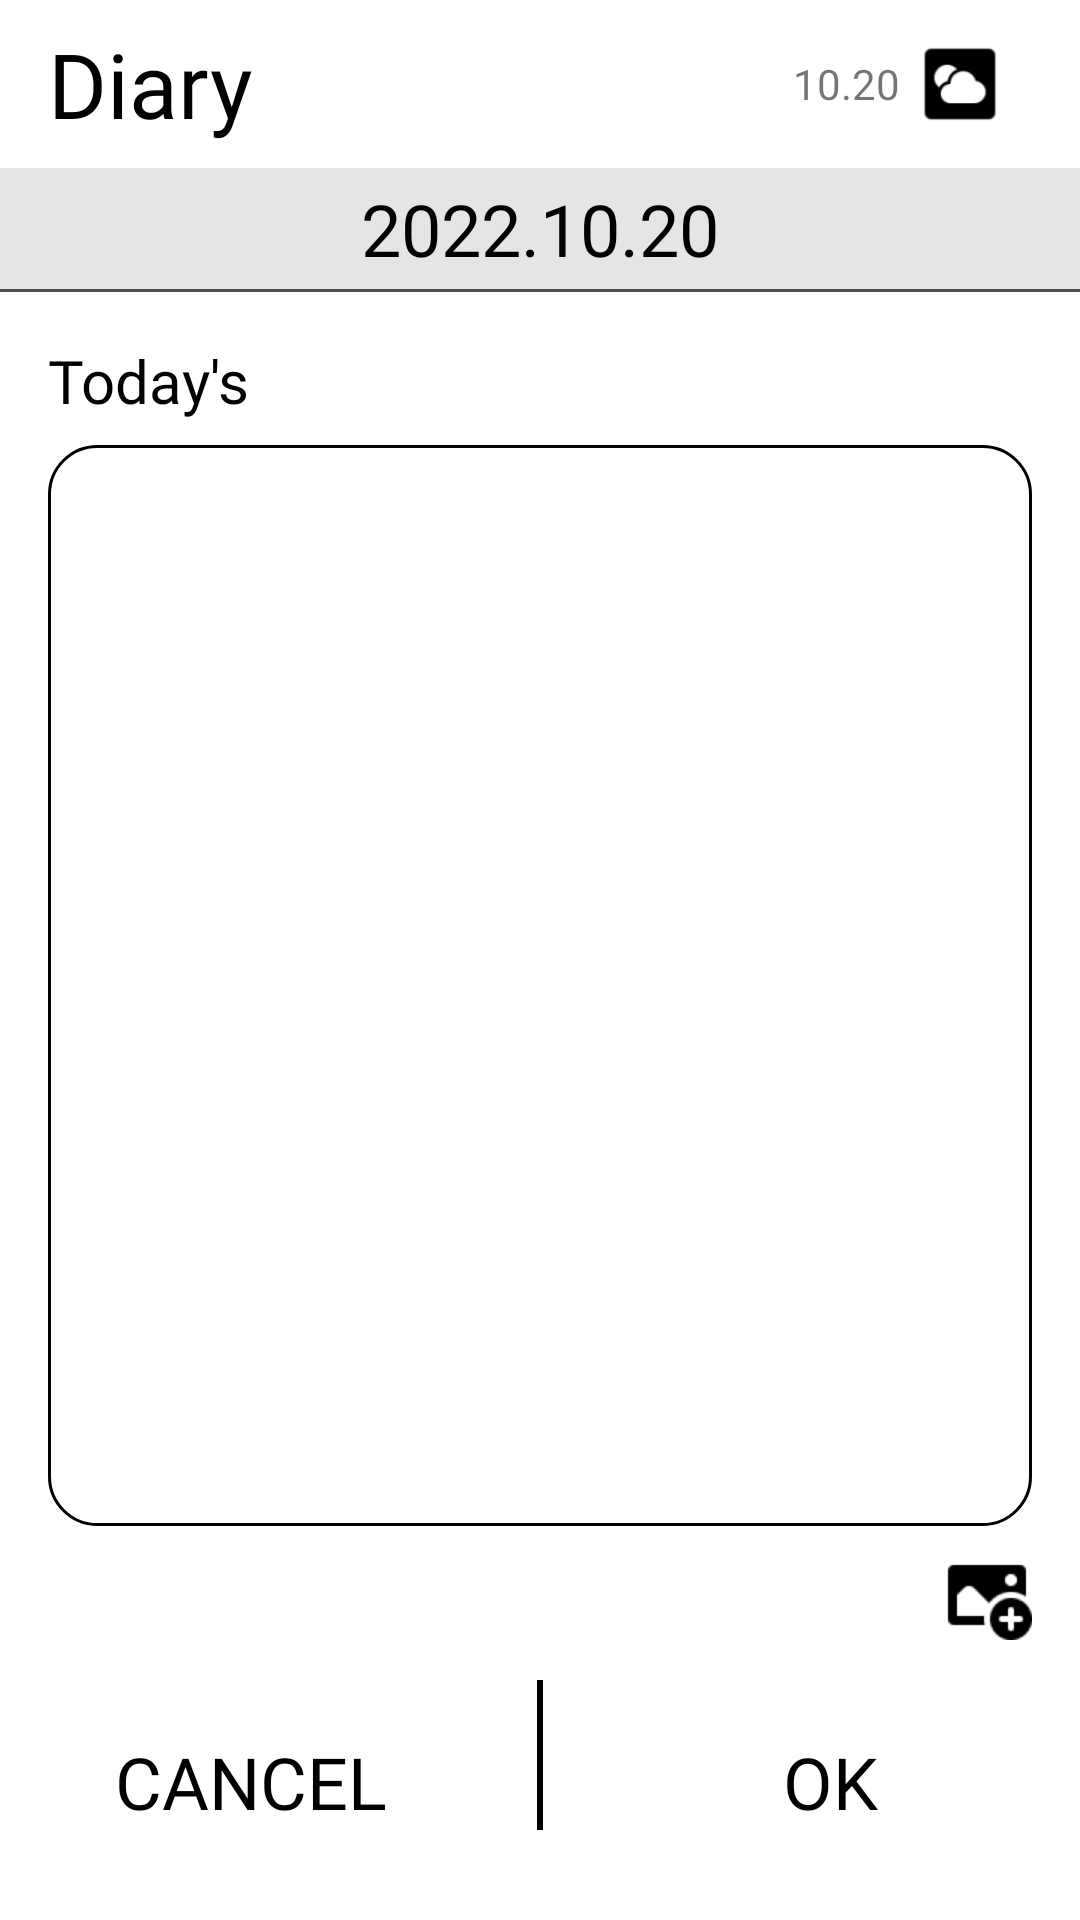

Where icons sit on this 1080w x 1920h app screen, as (x1, y1, x2, y2):
photo: (947, 1564, 1032, 1640)
weather: (924, 48, 996, 120)
